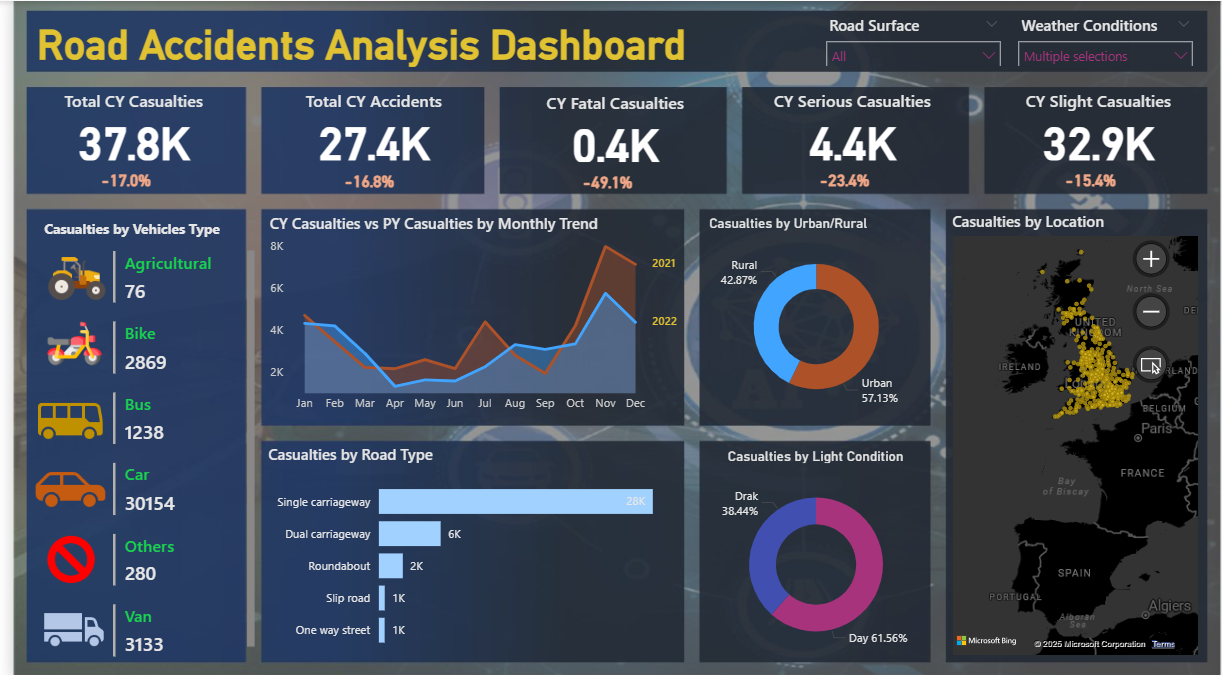

The dashboard page shown, as its layout file describes it:
{"tool":"powerbi","page":{"name":"Page 1","canvas":[1280,720],"ordinal":0},"visuals":[{"type":"card","title":"CY Serious Casualties","fields":{"Values":["Data.CY casualities"]},"box":[784.5,93.5,211.7,80.6],"z":0,"group":"g4"},{"type":"group","id":"g1","title":"Group 1","box":[21.6,93.6,211.7,135.4],"z":0},{"type":"card","title":"Total CY Casualties","fields":{"Values":["Data.CY casualities"]},"box":[21.6,93.6,211.7,80.6],"z":0,"group":"g1"},{"type":"card","title":"Total CY Accidents","fields":{"Values":["Data.CY Accidents count"]},"box":[276.1,93.8,211.7,80.6],"z":0,"group":"g2"},{"type":"card","title":"CY Slight Casualties","fields":{"Values":["Data.CY casualities"]},"box":[1045.4,94.6,211.7,80.6],"z":0,"group":"g5"},{"type":"card","title":"CY Fatal Casualties","fields":{"Values":["Data.CY casualities"]},"box":[532.8,95,211.7,80.6],"z":0,"group":"g3"},{"type":"group","id":"g2","title":"Group 2","box":[276.1,93.8,211.7,132.5],"z":1000},{"type":"card","fields":{"Values":["Data.YoY casualities"]},"box":[784.5,152.5,194.4,76.3],"z":1000,"group":"g4"},{"type":"card","fields":{"Values":["Data.YoY casualities"]},"box":[21.6,152.6,194.4,76.3],"z":1000,"group":"g1"},{"type":"card","fields":{"Values":["Data.YoY casualities"]},"box":[1045.4,153.6,194.4,76.3],"z":1000,"group":"g5"},{"type":"card","fields":{"Values":["Data.YoY casualities"]},"box":[532.8,154,194.4,76.3],"z":1000,"group":"g3"},{"type":"card","fields":{"Values":["Data.YoY Accidents"]},"box":[280.4,157.2,191.5,69.1],"z":1000,"group":"g2"},{"type":"group","id":"g3","title":"Group 1","box":[532.8,95,211.7,135.4],"z":2000},{"type":"group","id":"g4","title":"Group 1","box":[784.5,93.5,211.7,134.4],"z":3000},{"type":"group","id":"g5","title":"Group 1","box":[1045.4,94.6,211.7,134.4],"z":4000},{"type":"textbox","box":[20.2,15.8,725.8,59],"z":5000},{"type":"image","box":[24.5,329.8,82.1,67.7],"z":6000},{"type":"image","box":[20.2,256.3,93.6,74.9],"z":7000},{"type":"image","box":[14.4,626.4,100.8,79.2],"z":8000},{"type":"image","box":[17.3,403.2,86.4,85],"z":9000},{"type":"image","box":[15.8,554.4,90.7,73.4],"z":10000},{"type":"image","box":[7.2,472.3,106.6,90.7],"z":11000},{"type":"textbox","box":[25.9,226.1,201.6,38.9],"z":12000},{"type":"areaChart","title":"CY Casualties vs PY Casualties by Monthly Trend","fields":{"Category":["calender.Month"],"Y":["Sum(Data.Number_of_Casualties)"],"Series":["calender.Date.Variation.Date Hierarchy.Year"]},"box":[267.8,224.6,445,220.3],"z":13000},{"type":"donutChart","title":" Casualties by Urban/Rural","fields":{"Category":["Data.Urban_or_Rural_Area"],"Y":["Data.CY casualities"]},"box":[733,227.5,236.2,218.9],"z":14000},{"type":"donutChart","title":"Casualties by Light Condition","fields":{"Category":["Data.Light_Conditions (groups)"],"Y":["Data.CY casualities"]},"box":[724.3,473.8,254.9,230.4],"z":15000},{"type":"barChart","title":"Casualties by Road Type","fields":{"Category":["Data.Road_Type"],"Y":["Data.CY casualities"]},"box":[265,469.4,445,230.4],"z":16000},{"type":"multiRowCard","fields":{"Values":["Data.Vehicle_Type (groups)","Data.CY casualities"]},"box":[100.8,259.2,161.3,445],"z":17000},{"type":"map","title":"Casualties by Location","fields":{"Y":["Data.Latitude"],"X":["Data.Longitude"],"Category":["Data.Local_Authority_(District)"]},"box":[990.7,223.2,270.7,475.2],"z":18000},{"type":"slicer","fields":{"Values":["Data.Weather_Conditions (groups)"]},"box":[1057,10.1,204.5,59],"z":19000},{"type":"slicer","fields":{"Values":["Data.Road_Surface_Conditions (groups)"]},"box":[852.5,10.1,204.5,59],"z":20000}]}

Visuals, with their boxes in screenshot pixels (x1, y1, x2, y2), scaled from the page's 1280x720 canvas onto the 1222x675 screenshot:
"CY Serious Casualties" card: x1=749 y1=88 x2=951 y2=163
"Group 1" group: x1=21 y1=88 x2=223 y2=215
"Total CY Casualties" card: x1=21 y1=88 x2=223 y2=163
"Total CY Accidents" card: x1=264 y1=88 x2=466 y2=163
"CY Slight Casualties" card: x1=998 y1=89 x2=1200 y2=164
"CY Fatal Casualties" card: x1=509 y1=89 x2=711 y2=165
"Group 2" group: x1=264 y1=88 x2=466 y2=212
card - Data.YoY casualities: x1=749 y1=143 x2=935 y2=214
card - Data.YoY casualities: x1=21 y1=143 x2=206 y2=215
card - Data.YoY casualities: x1=998 y1=144 x2=1184 y2=216
card - Data.YoY casualities: x1=509 y1=144 x2=694 y2=216
card - Data.YoY Accidents: x1=268 y1=147 x2=451 y2=212
"Group 1" group: x1=509 y1=89 x2=711 y2=216
"Group 1" group: x1=749 y1=88 x2=951 y2=214
"Group 1" group: x1=998 y1=89 x2=1200 y2=215
textbox: x1=19 y1=15 x2=712 y2=70
image: x1=23 y1=309 x2=102 y2=373
image: x1=19 y1=240 x2=109 y2=311
image: x1=14 y1=587 x2=110 y2=662
image: x1=17 y1=378 x2=99 y2=458
image: x1=15 y1=520 x2=102 y2=589
image: x1=7 y1=443 x2=109 y2=528
textbox: x1=25 y1=212 x2=217 y2=248
"CY Casualties vs PY Casualties by Monthly Trend" areaChart: x1=256 y1=211 x2=681 y2=417
" Casualties by Urban/Rural" donutChart: x1=700 y1=213 x2=925 y2=418
"Casualties by Light Condition" donutChart: x1=691 y1=444 x2=935 y2=660
"Casualties by Road Type" barChart: x1=253 y1=440 x2=678 y2=656
multiRowCard - Data.Vehicle_Type (groups) x Data.CY casualities: x1=96 y1=243 x2=250 y2=660
"Casualties by Location" map: x1=946 y1=209 x2=1204 y2=655
slicer - Data.Weather_Conditions (groups): x1=1009 y1=9 x2=1204 y2=65
slicer - Data.Road_Surface_Conditions (groups): x1=814 y1=9 x2=1009 y2=65
